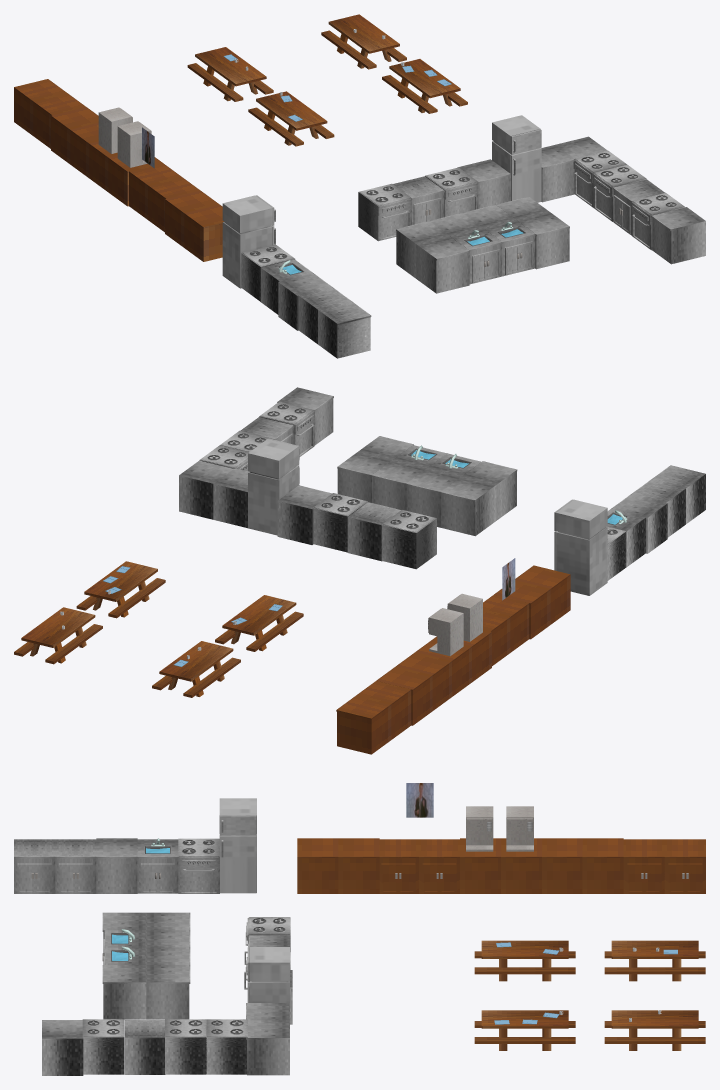
The model's file is Kitchen and diner.fbx.
3 views of the same model, one above another, from view 1: azimuth 30°, elevation 25°; view 2: azimuth 150°, elevation 25°; view 3: azimuth 270°, elevation 25° (orthographic). The views are drawn at different scales.
Visible parts, largest first — view 1: Cube.055, Cube.014, Cube.032, Cube.010, Torus.003, Cube.064, Cube.019, Cube.035, Torus.004, Cube.036, Cube.016, Cube.047 (+36 smaller); view 2: Cube.055, Cube.048, Cube.020, Torus.003, Cube.056, Cube.025, Torus.004, Cube.034, Cube.024, Cube.035, Cube.036, Cube.021 (+32 smaller); view 3: Cube.019, Cube.023, Cube.034, Torus.007, Cube.011, Torus.002, Torus.008, Cube.065, Cube.064, Cube.058, Cube.032, Torus.009 (+35 smaller).
Boxes of the visible parts, left/top/right/bottom form: Cube.055: left=222, top=195, right=272, bottom=288; Cube.014: left=416, top=236, right=469, bottom=293; Cube.032: left=651, top=207, right=705, bottom=264; Cube.010: left=318, top=301, right=371, bottom=358; Torus.003: left=358, top=183, right=411, bottom=241; Cube.064: left=184, top=204, right=223, bottom=261; Cube.019: left=516, top=211, right=569, bottom=269; Cube.035: left=541, top=144, right=574, bottom=202; Torus.004: left=425, top=167, right=478, bottom=217; Cube.036: left=328, top=14, right=399, bottom=68; Cube.016: left=483, top=220, right=535, bottom=276; Cube.047: left=195, top=47, right=266, bottom=101; Cube.055: left=556, top=499, right=607, bottom=595; Cube.048: left=248, top=439, right=298, bottom=535; Cube.020: left=440, top=476, right=496, bottom=536; Torus.003: left=381, top=510, right=436, bottom=569; Cube.056: left=336, top=695, right=391, bottom=754; Cube.025: left=277, top=485, right=331, bottom=544; Torus.004: left=313, top=493, right=367, bottom=552; Cube.034: left=179, top=460, right=232, bottom=519; Cube.024: left=347, top=502, right=400, bottom=561; Cube.035: left=213, top=468, right=248, bottom=528; Cube.036: left=21, top=607, right=95, bottom=663; Cube.021: left=406, top=468, right=461, bottom=527; Cube.019: left=102, top=965, right=146, bottom=1019; Cube.023: left=146, top=965, right=190, bottom=1019; Cube.034: left=246, top=1020, right=289, bottom=1075; Torus.007: left=82, top=1019, right=124, bottom=1074; Cube.011: left=96, top=838, right=137, bottom=893; Torus.002: left=178, top=838, right=219, bottom=893; Torus.008: left=165, top=1019, right=206, bottom=1074; Cube.065: left=338, top=838, right=379, bottom=893; Cube.064: left=297, top=838, right=338, bottom=893; Cube.058: left=582, top=838, right=623, bottom=893; Cube.032: left=42, top=1020, right=83, bottom=1075; Torus.009: left=206, top=1019, right=247, bottom=1074.
Bounding box in the file's own units: 132 × 28.94 × 193.
68 materials, 50 textured.
